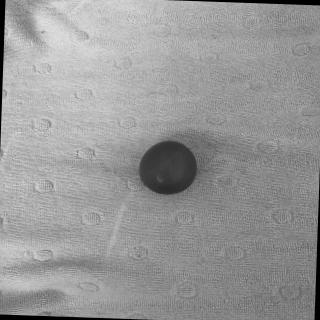Telur: (138, 139, 203, 198)
